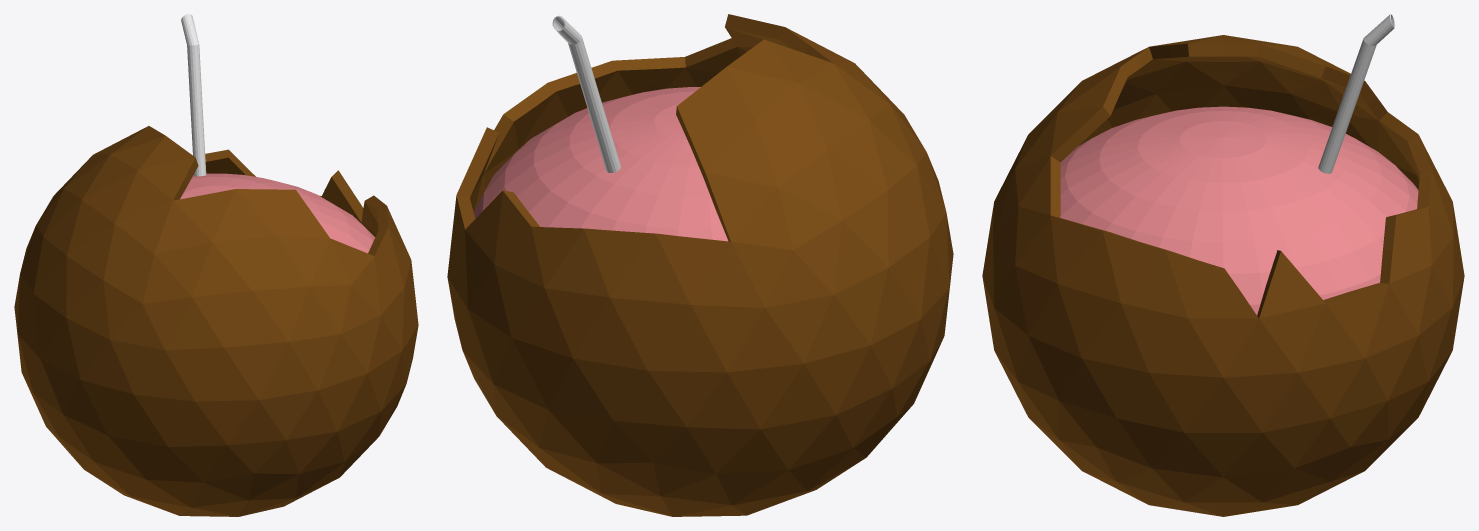
File: Coconut.fbx
3 renders of one model, left to right at view 1: azimuth 30°, elevation 25°; view 2: azimuth 150°, elevation 25°; view 3: azimuth 270°, elevation 25°, orthographic. The views are drawn at different scales.
Visible parts, largest first — view 1: Icosphere, Sphere, Cylinder; view 2: Icosphere, Sphere, Cylinder; view 3: Icosphere, Sphere, Cylinder.
Part boxes in pixels (left/top/right/bottom): Icosphere: left=14, top=126, right=418, bottom=516; Sphere: left=180, top=173, right=375, bottom=253; Cylinder: left=181, top=14, right=206, bottom=176; Icosphere: left=447, top=14, right=953, bottom=516; Sphere: left=473, top=87, right=728, bottom=241; Cylinder: left=552, top=15, right=620, bottom=172; Icosphere: left=982, top=35, right=1464, bottom=516; Sphere: left=1060, top=106, right=1418, bottom=315; Cylinder: left=1318, top=14, right=1395, bottom=173.
Size of the model in its own units: 200 by 231 by 200.
